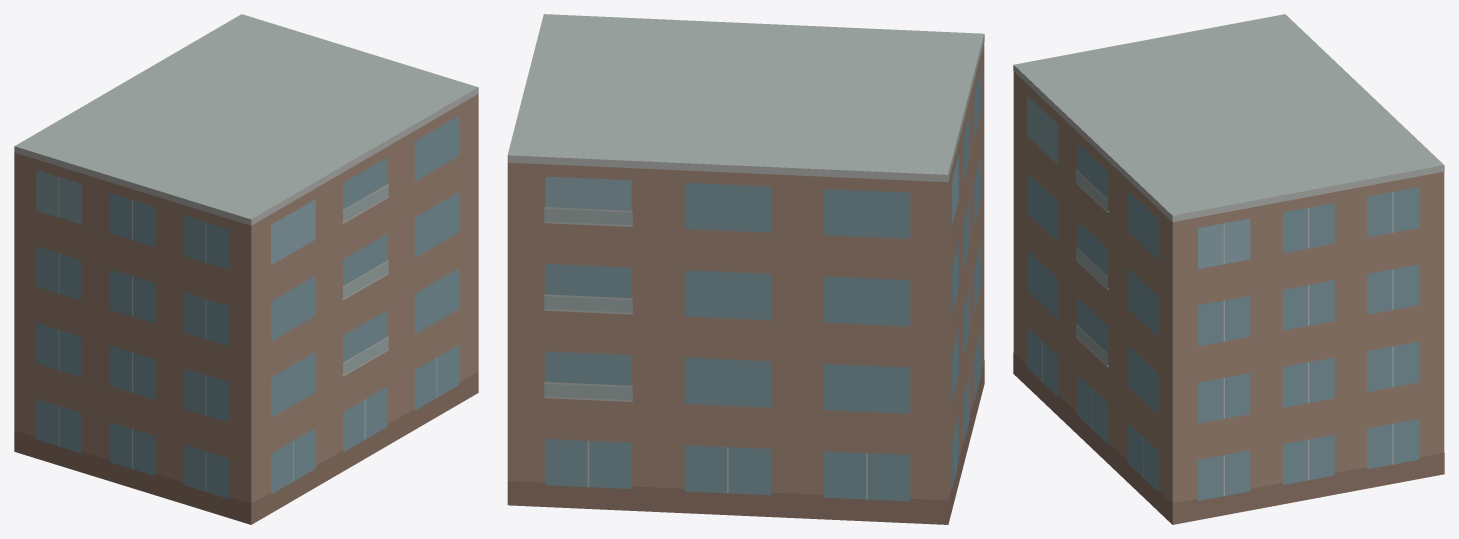
File: survey-upis-32710978.glb
3 renders of one model, left to right at view 1: azimuth 30°, elevation 25°; view 2: azimuth 150°, elevation 25°; view 3: azimuth 270°, elevation 25°, orthographic. The views are drawn at different scales.
Visible parts, largest first — view 1: survey-upis-32710978.tmp; view 2: survey-upis-32710978.tmp; view 3: survey-upis-32710978.tmp.
Boxes of the visible parts, bbox=[...] form: survey-upis-32710978.tmp: bbox=[14, 14, 478, 524]; survey-upis-32710978.tmp: bbox=[507, 14, 984, 524]; survey-upis-32710978.tmp: bbox=[1013, 14, 1444, 524].
Bounding box in the file's own units: 16.39 × 11.7 × 14.79.
